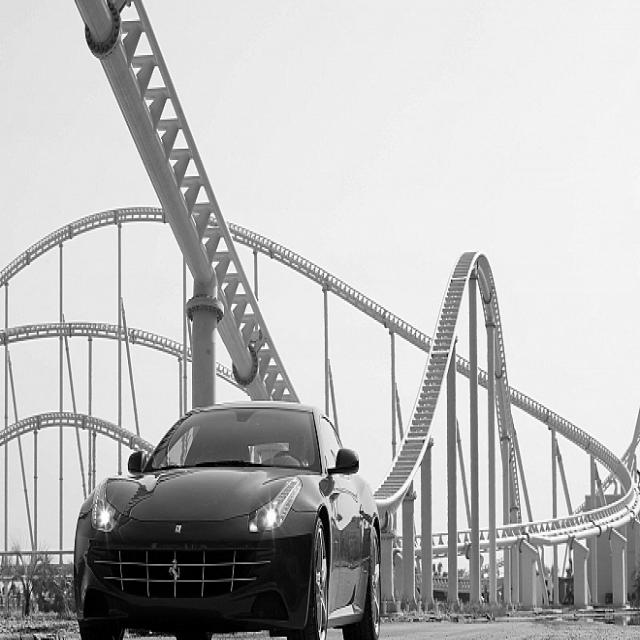car: (73, 400, 381, 638)
